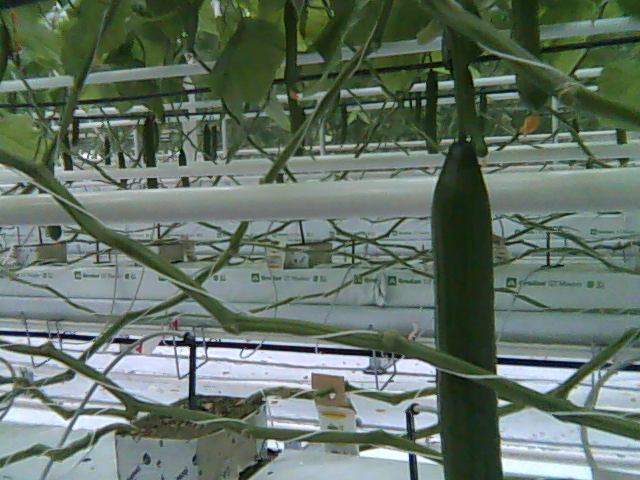concombre: (430, 137, 505, 480)
